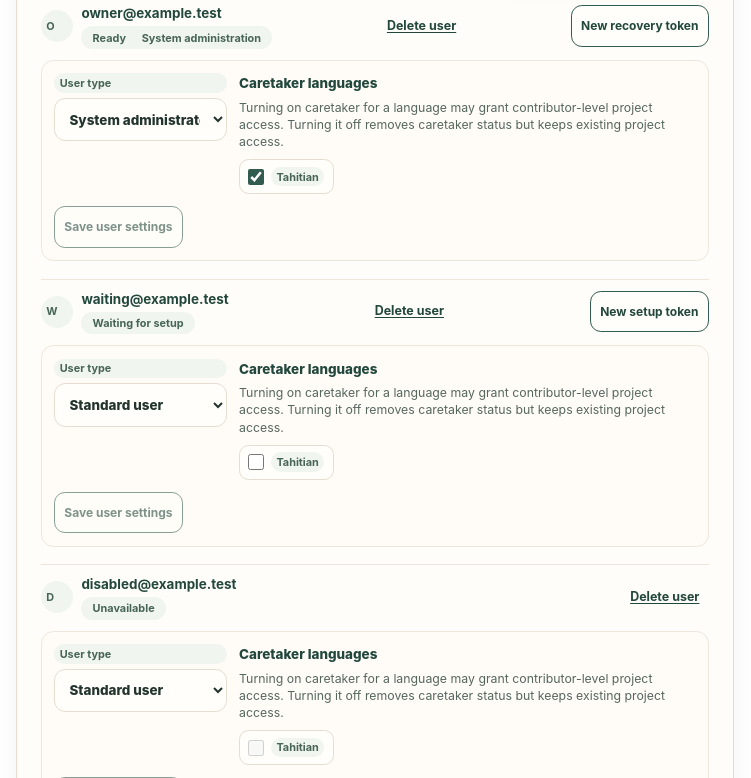
Test case: AdminAccessScreen › updates a user's type and caretaker languages through the CSRF-protected user route
The width and height of the screenshot is (751, 778).
(page scrolled)
Expected: the list item "waiting@example.test" is shown, [81,291,229,307]
Step 1. Select "System administrator" in the dropdown labelled "User type" below "waiting@example.test" → point(141, 405), box [54,383,227,427]
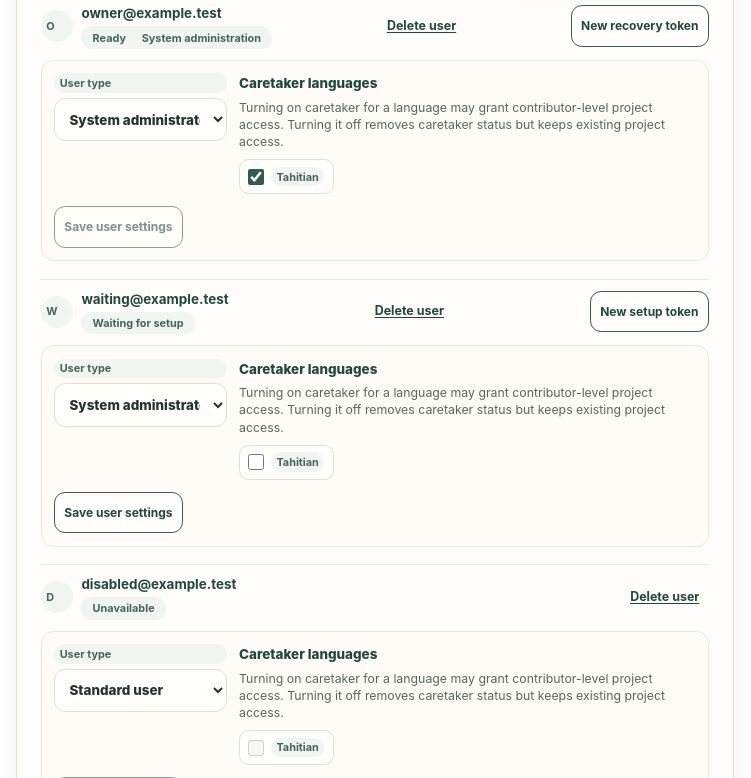
Step 2. Click the checkbox labelled "Tahitian" below "waiting@example.test" → point(256, 462), box [248,454,264,470]
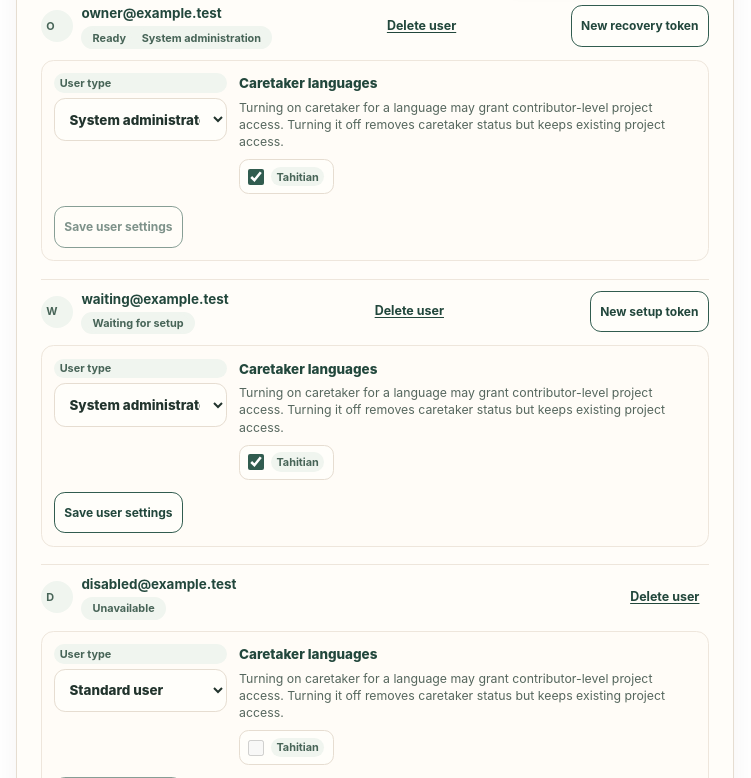
Step 3. Click the button "Save user settings" below "waiting@example.test" → point(118, 513), box [54,492,183,533]
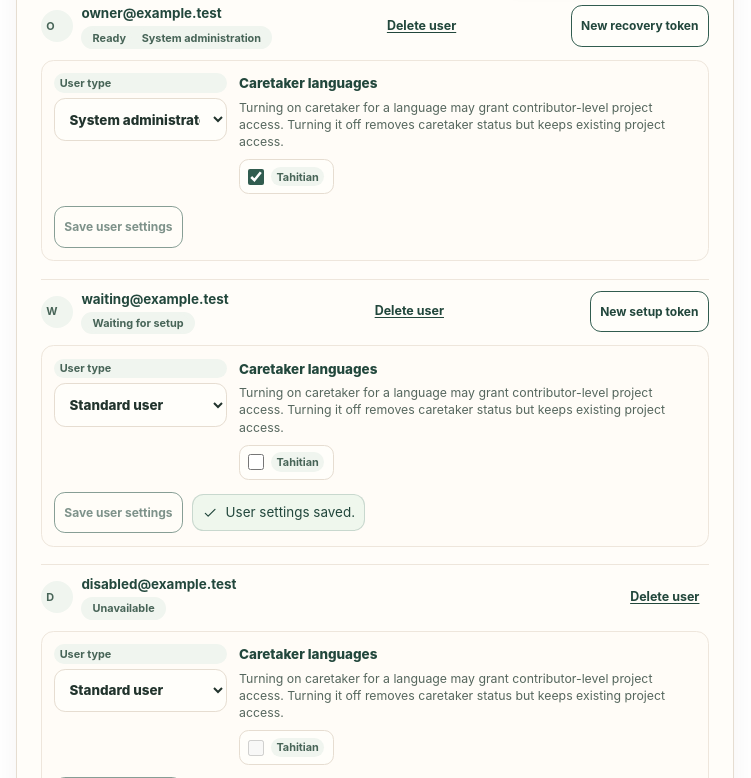
Now the text "User settings saved." is shown, box [192,494,365,531]
